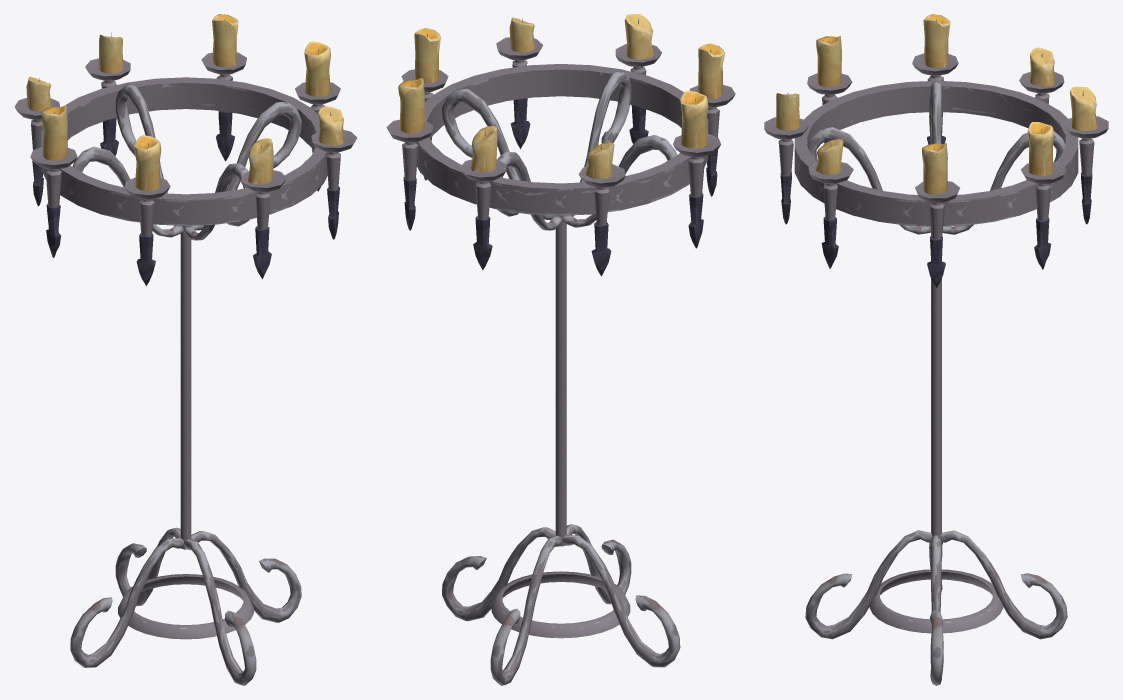
Rendered from CandleStick_Stand.gltf.
3 renders of one model, left to right at view 1: azimuth 30°, elevation 25°; view 2: azimuth 150°, elevation 25°; view 3: azimuth 270°, elevation 25°, orthographic. The views are drawn at different scales.
Parts seen in each view (by area): view 1: CandleStick_Stand; view 2: CandleStick_Stand; view 3: CandleStick_Stand.
Boxes of the visible parts, left/top/right/bottom form: CandleStick_Stand: left=14, top=14, right=357, bottom=685; CandleStick_Stand: left=386, top=14, right=735, bottom=685; CandleStick_Stand: left=764, top=14, right=1108, bottom=685.
Bounding box in the file's own units: 0.7323 × 1.31 × 0.7313.
Materials: 2 (2 with a texture image).
